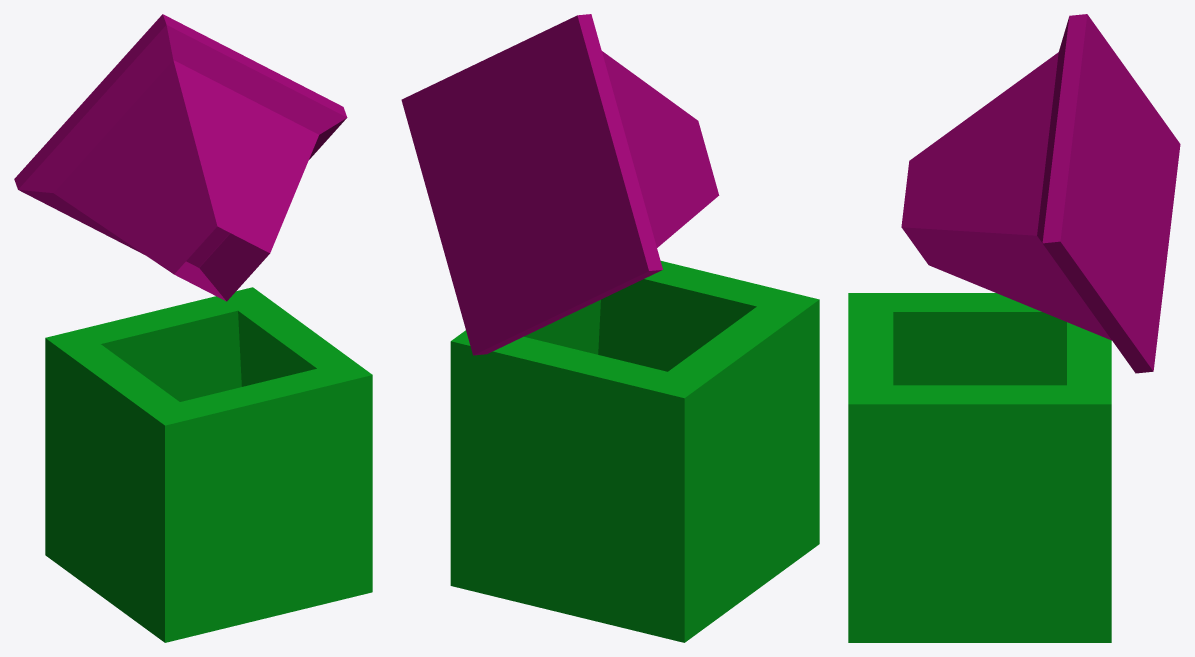
File: AnimatedBox_000049.obj
3 renders of one model, left to right at view 1: azimuth 30°, elevation 25°; view 2: azimuth 150°, elevation 25°; view 3: azimuth 270°, elevation 25°, orthographic. The views are drawn at different scales.
Parts seen in each view (by area): view 1: Cube, Cube.001; view 2: Cube, Cube.001; view 3: Cube, Cube.001.
Boxes of the visible parts, <box> form: Cube: <box>45,287,372,642</box>; Cube.001: <box>14,14,347,301</box>; Cube: <box>450,261,819,642</box>; Cube.001: <box>401,14,719,355</box>; Cube: <box>848,293,1111,642</box>; Cube.001: <box>901,14,1180,373</box>.
Size of the model in its own units: 2.69 by 4.82 by 2.52.
